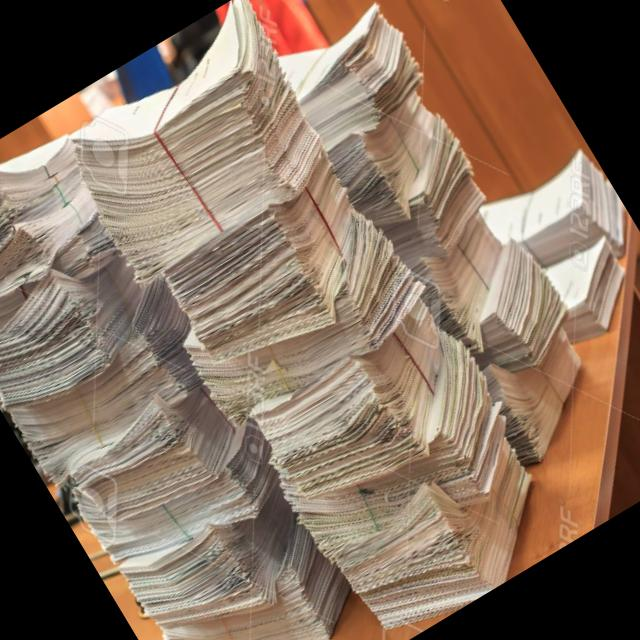KertasBekas: (0, 0, 640, 640), (37, 0, 581, 640), (0, 114, 371, 640), (265, 0, 629, 476)
